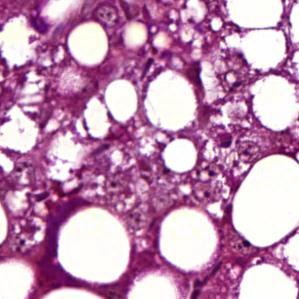steatosis: (52, 208, 135, 283), (155, 205, 222, 272), (64, 22, 115, 68), (103, 79, 137, 123), (160, 138, 200, 171)
